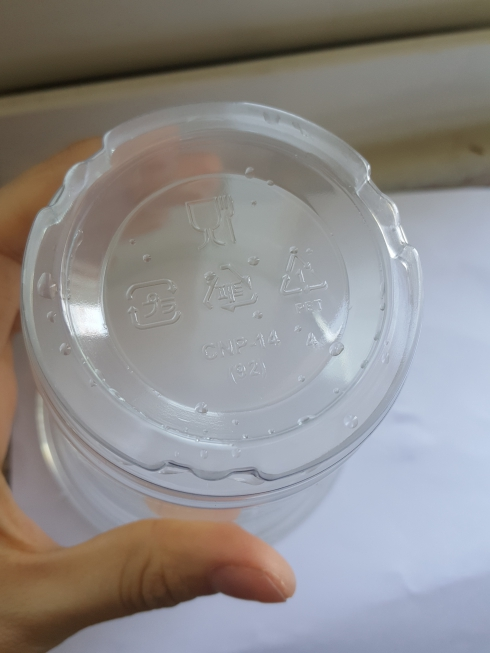recycle: (268, 239, 338, 320)
